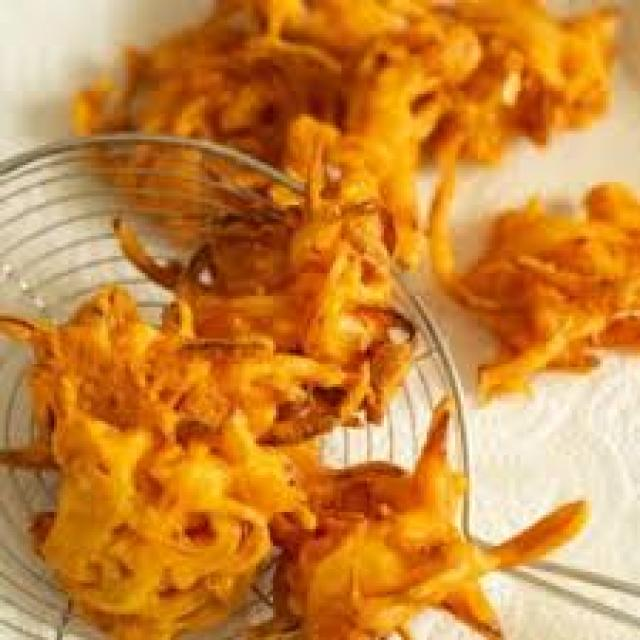BAJI: (80, 0, 637, 395), (0, 287, 344, 637), (284, 407, 583, 637)
